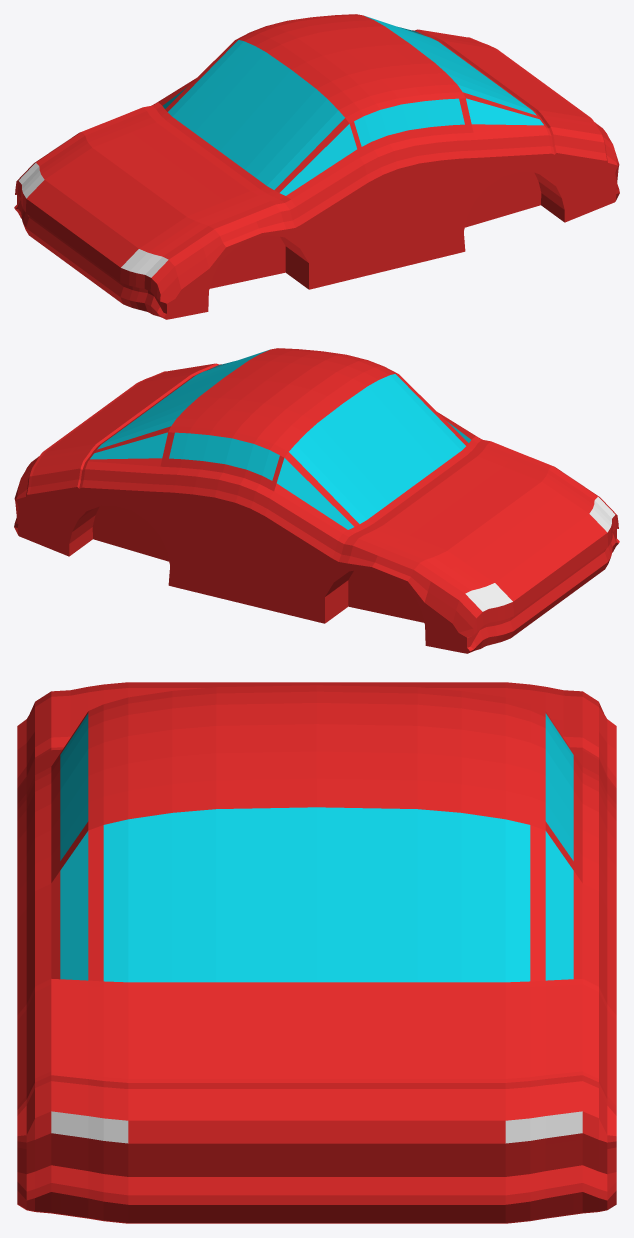
File: carTest.fbx
3 views of the same model, one above another, from view 1: azimuth 30°, elevation 25°; view 2: azimuth 150°, elevation 25°; view 3: azimuth 270°, elevation 25° (orthographic). The views are drawn at different scales.
Visible parts, largest first — view 1: Plane.005; view 2: Plane.005; view 3: Plane.005.
Part boxes in pixels (x1,y1,x2,y2): Plane.005: [14, 14, 619, 319]; Plane.005: [14, 348, 619, 653]; Plane.005: [17, 682, 616, 1223].
Size of the model in its own units: 760 by 236 by 405.
